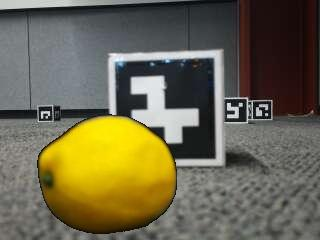lemon: (39, 115, 177, 234)
